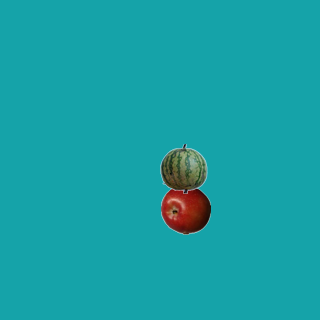Apple Braeburn: (160, 184, 210, 234)
Watermelon: (158, 143, 208, 193)
